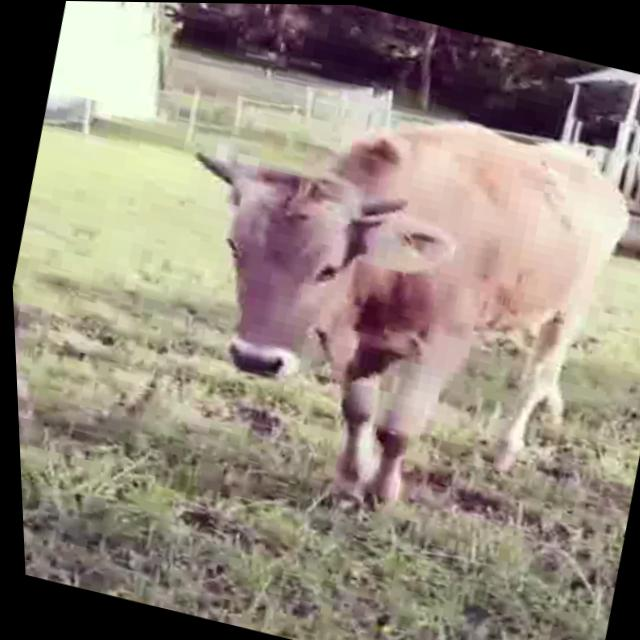cowFace: (145, 144, 465, 428)
